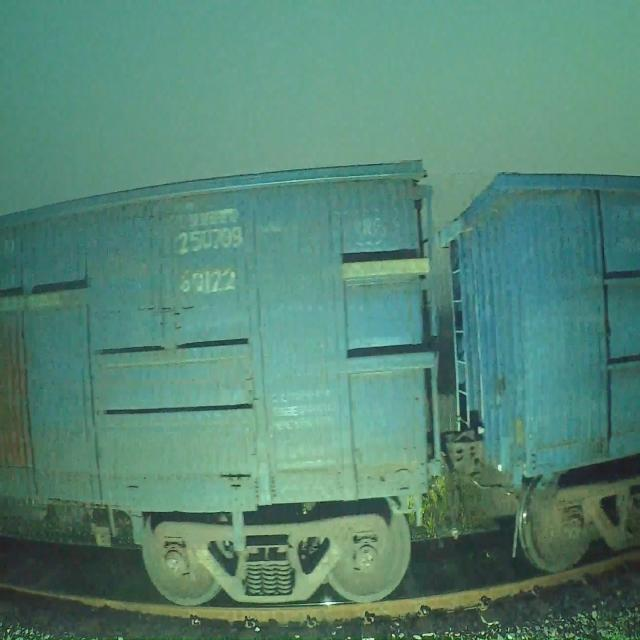WAgon-uic: (0, 157, 429, 605), (439, 168, 640, 571)
uic: (174, 224, 247, 301)
